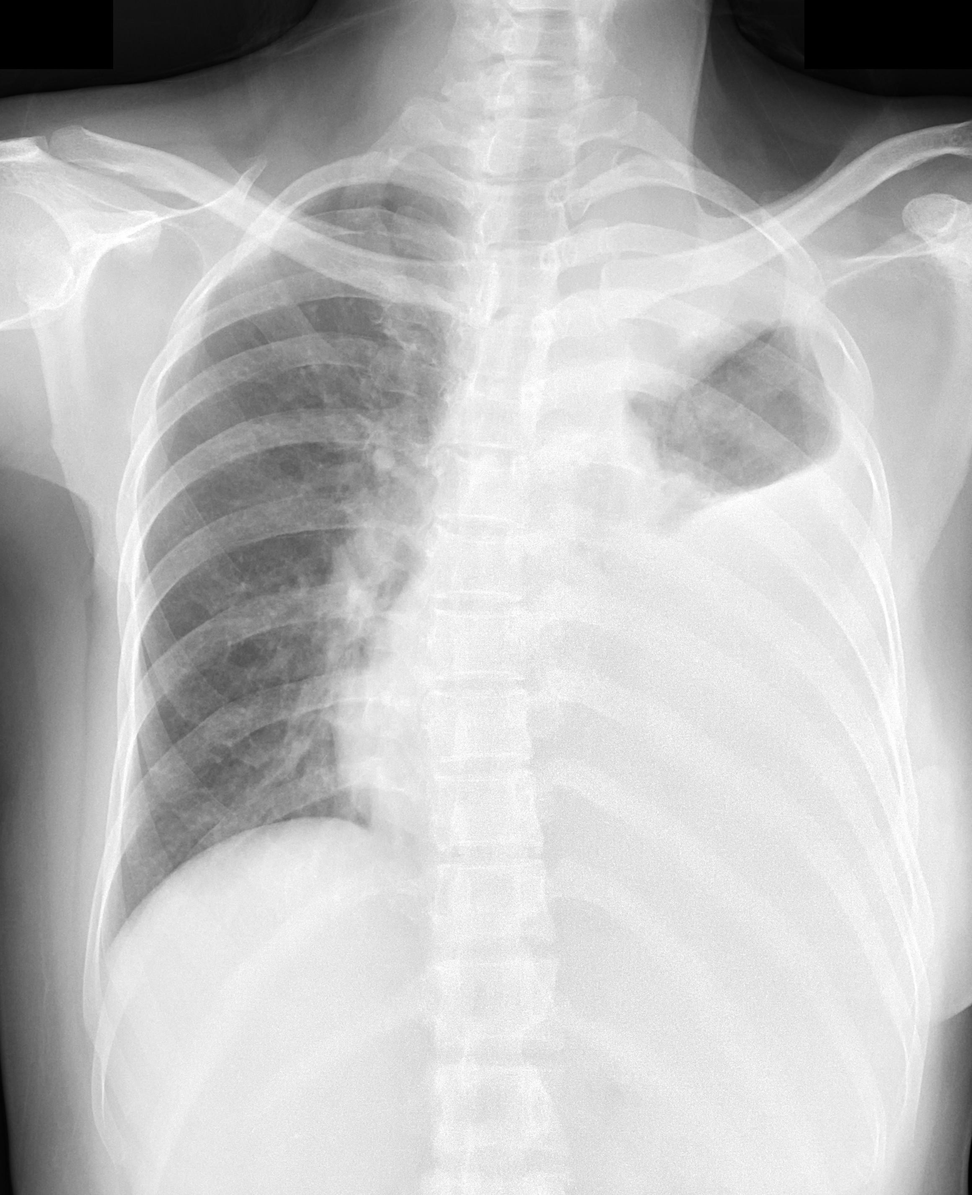Pleural thickening: (548, 157, 794, 459)
